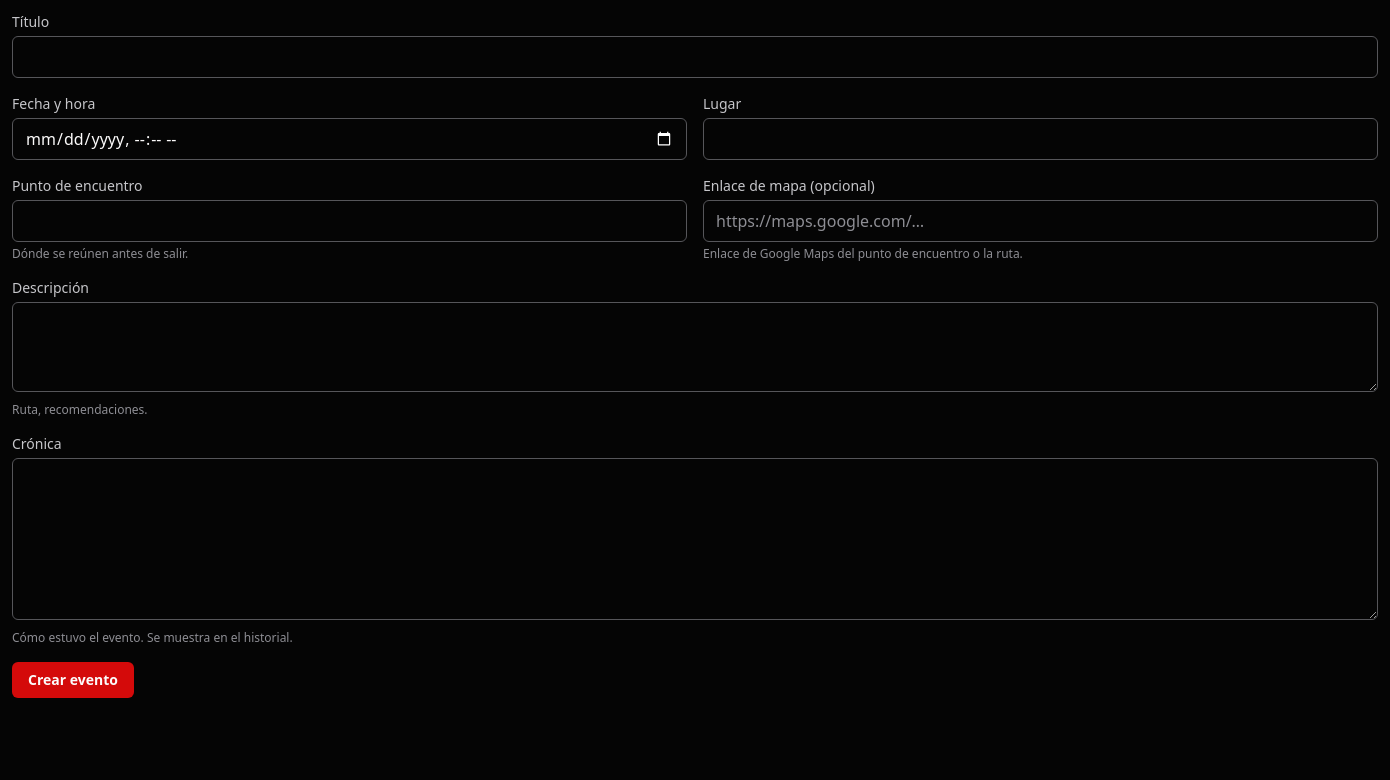
Test: EventForm › si falla el guardado muestra el error y conserva lo escrito
Step 1. Type "Rodada" into the field labelled "Título" → (695, 57), box [12, 36, 1378, 78]
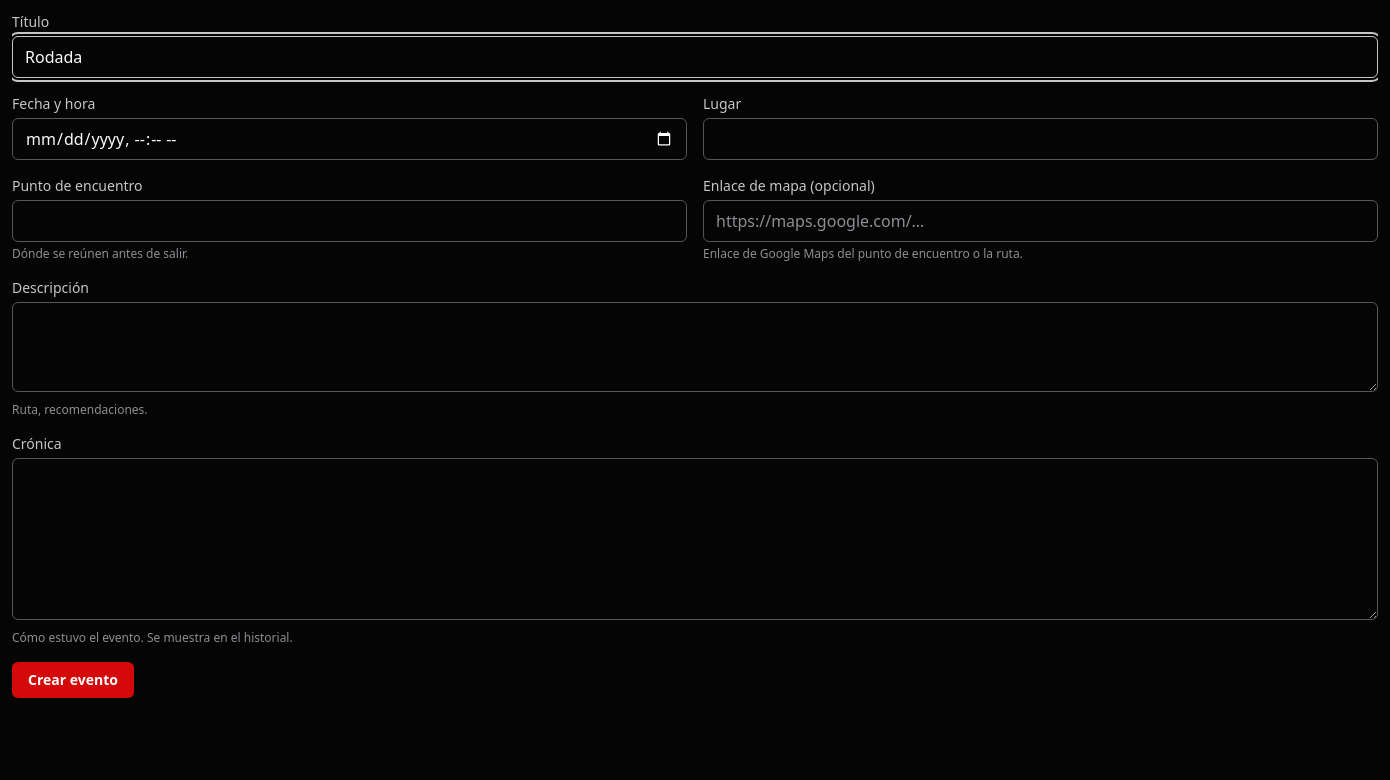
Step 2. Type "2027-01-15T07:30" into the field labelled "Fecha y hora" → (350, 139), box [12, 118, 687, 160]
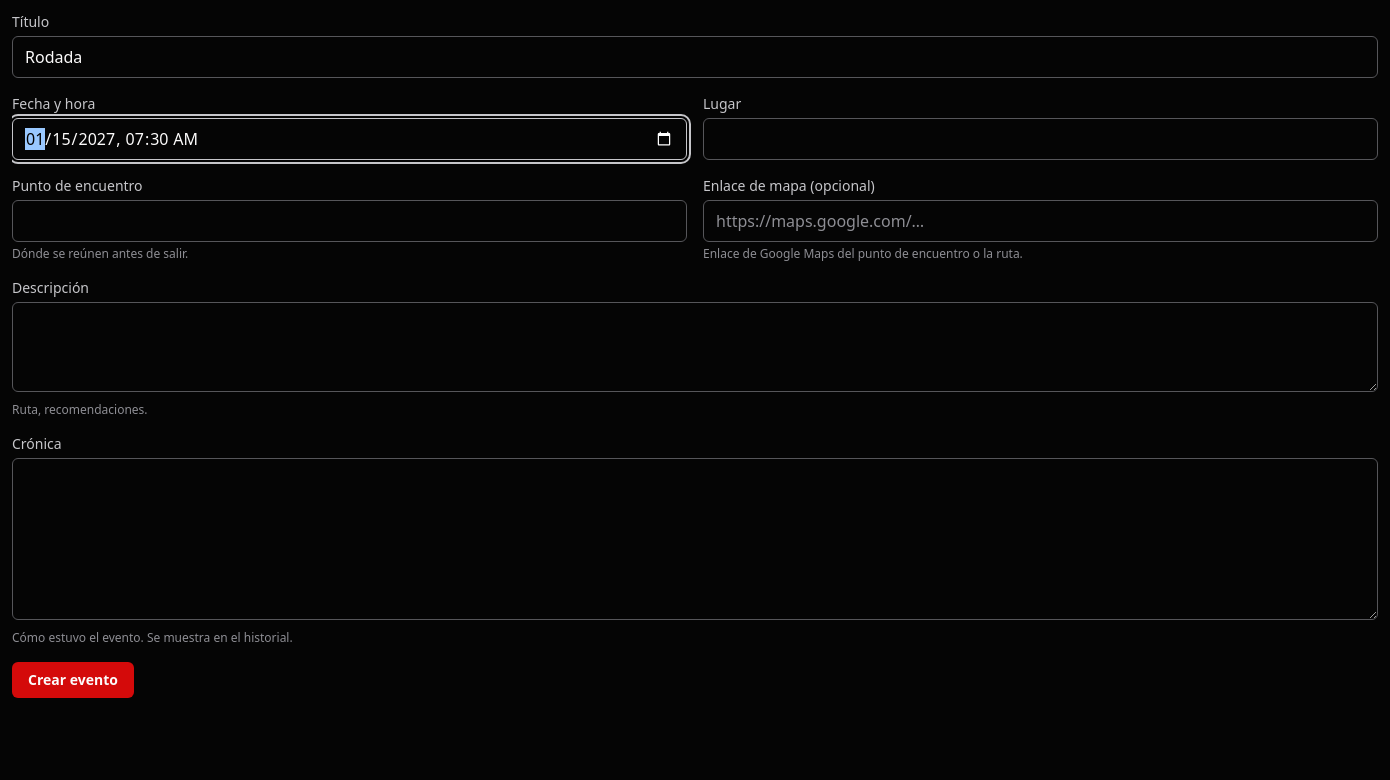
Step 3. Click the button "Crear evento" → click(73, 680), box [12, 662, 134, 698]
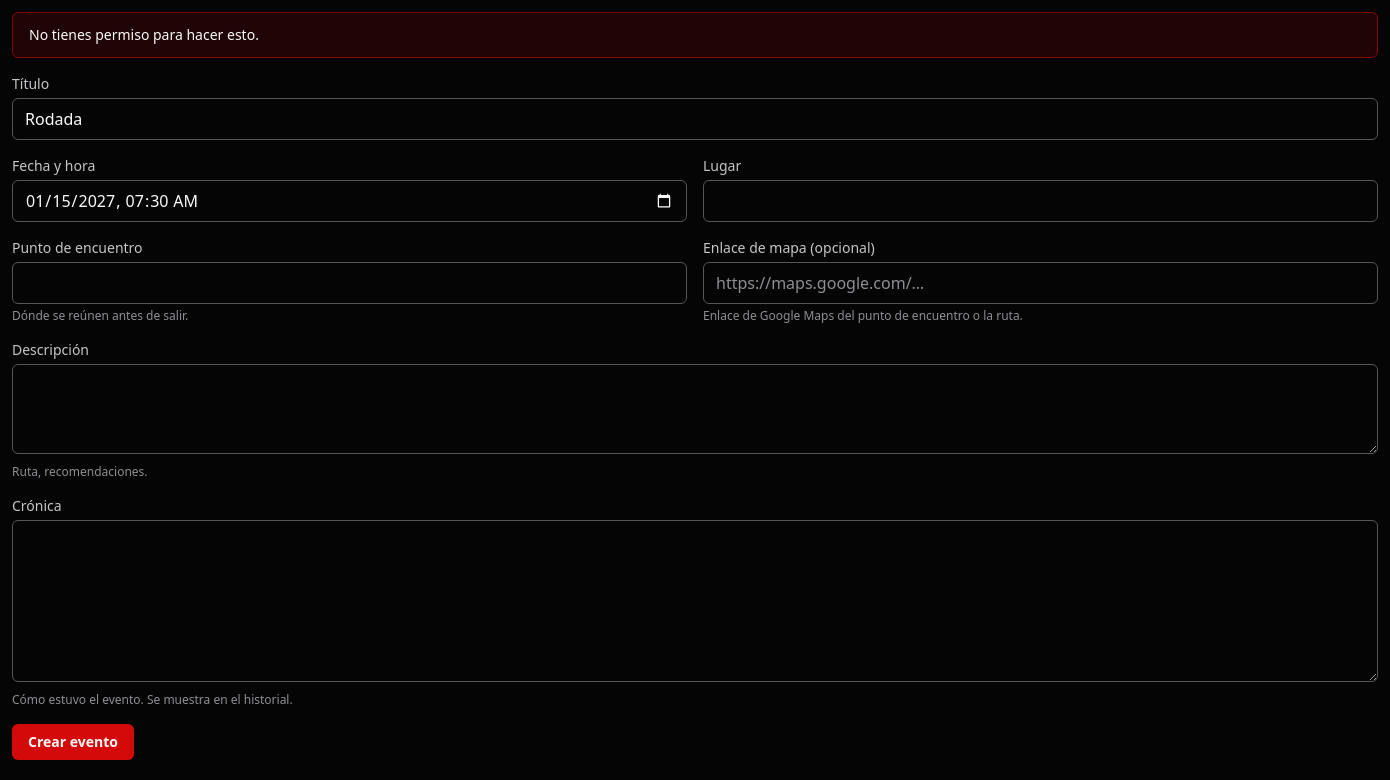
expect the message shows "No tienes permiso": met, box [29, 25, 259, 44]
